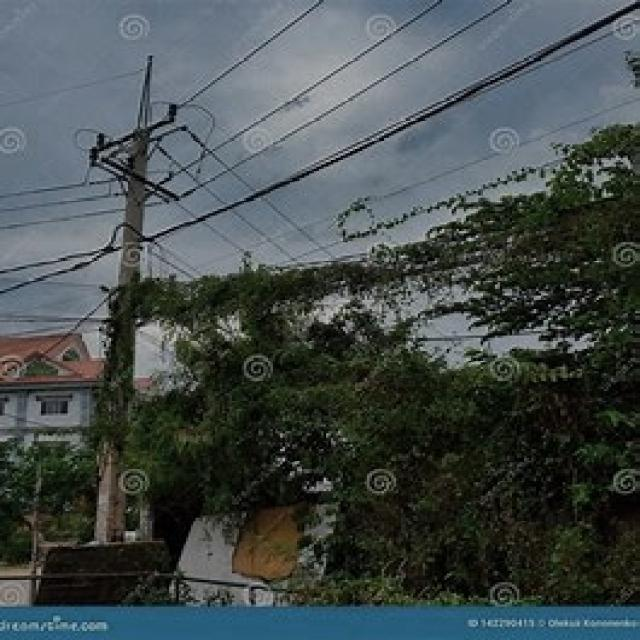critical vegetation: (124, 247, 636, 377)
